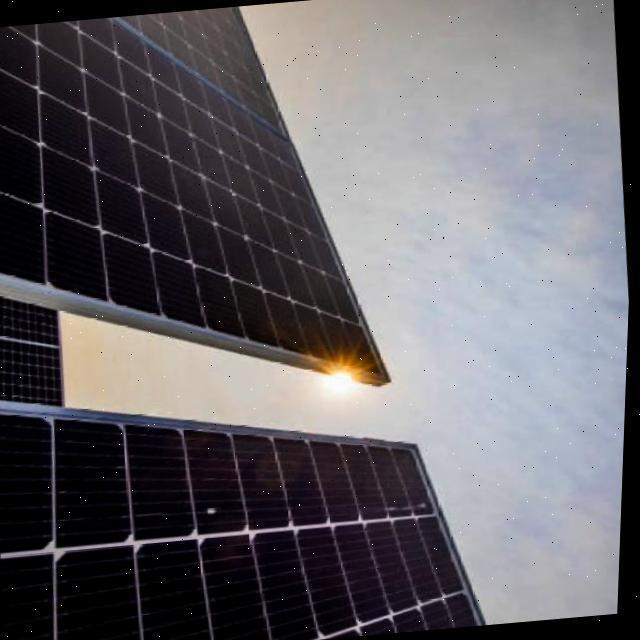Normal Solar Panel: (0, 0, 402, 411), (0, 343, 518, 640), (0, 279, 74, 407)
